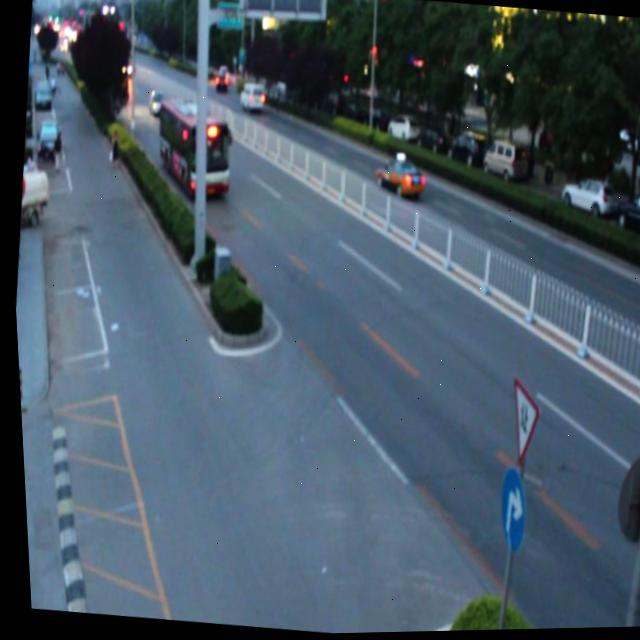car: (369, 155, 422, 202)
truck: (238, 81, 264, 113)
van: (149, 91, 235, 201)
